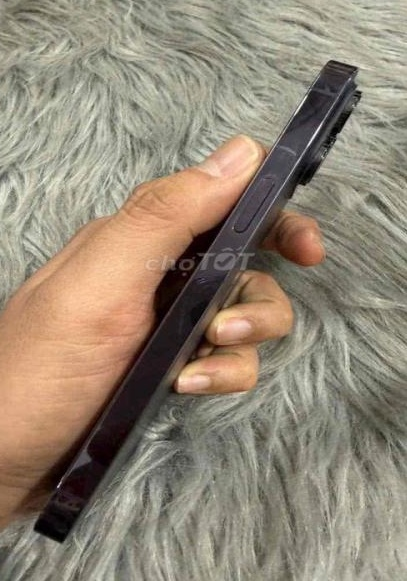scratch: (41, 404, 99, 498)
